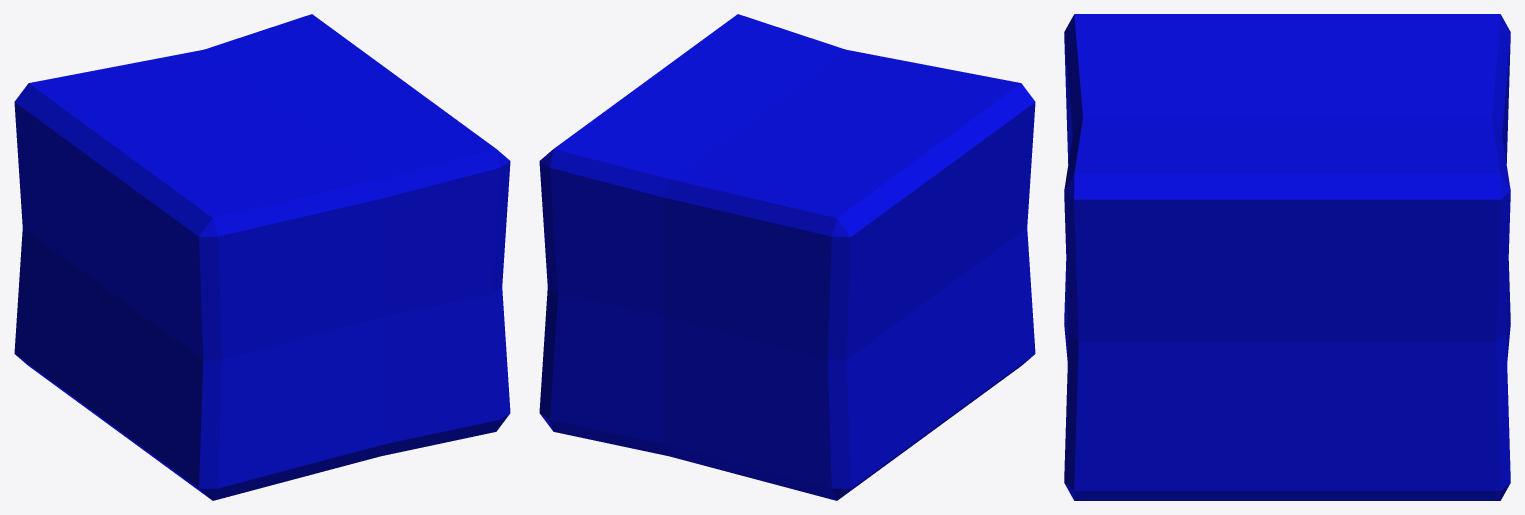
File: SM_HayStack2.fbx
The picture shows the model from 3 angles, left to right: view 1: azimuth 30°, elevation 25°; view 2: azimuth 150°, elevation 25°; view 3: azimuth 270°, elevation 25°; orthographic projection. The views are drawn at different scales.
Visible parts, largest first — view 1: SM_HayStack2; view 2: SM_HayStack2; view 3: SM_HayStack2.
Part boxes in pixels (x1,y1,x2,y2): SM_HayStack2: (14, 14, 510, 500); SM_HayStack2: (539, 14, 1035, 500); SM_HayStack2: (1064, 14, 1510, 500).
Size of the model in its own units: 24.82 by 21.54 by 26.66.
